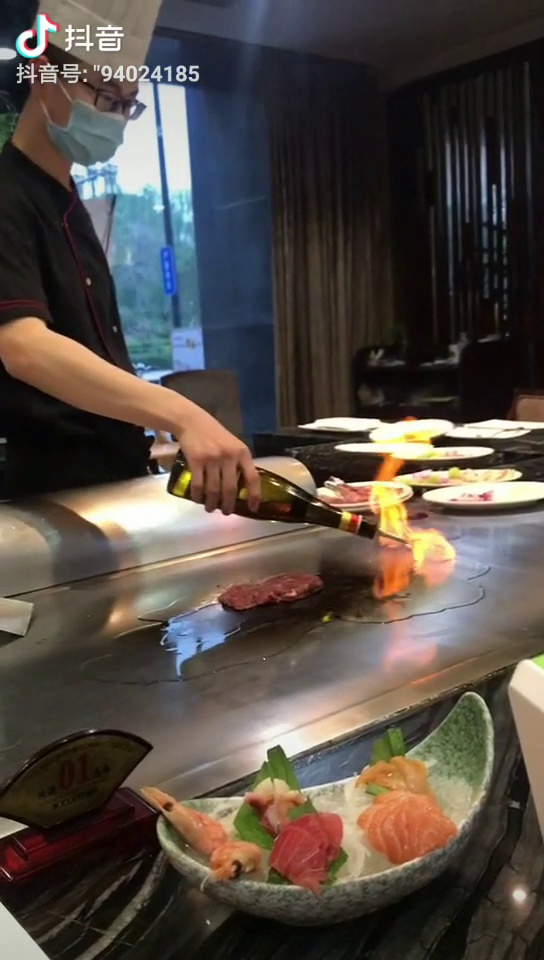fire: (368, 440, 415, 575)
